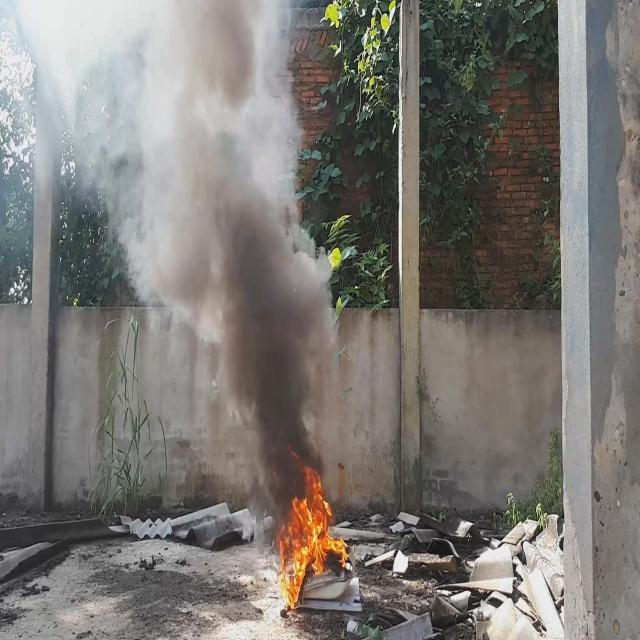Fire: (276, 464, 353, 610)
Smoke: (13, 0, 334, 537)
